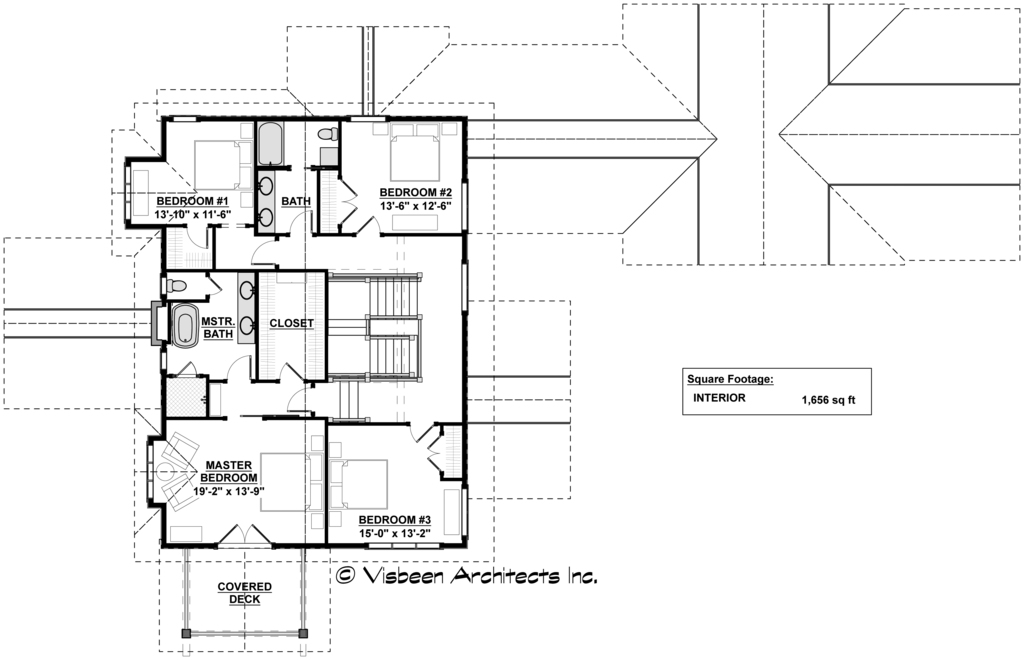bed: (253, 441, 331, 519), (320, 439, 394, 519), (380, 117, 456, 187), (189, 133, 255, 197)
door: (213, 518, 276, 547), (247, 232, 285, 272), (332, 176, 361, 227), (280, 379, 319, 414), (220, 356, 262, 385), (402, 417, 438, 450), (427, 425, 449, 478), (182, 218, 214, 252), (353, 207, 385, 240), (285, 206, 317, 238), (268, 357, 307, 382), (171, 360, 209, 382)
large_sink: (152, 271, 200, 295), (312, 118, 336, 149)
small_sink: (255, 165, 284, 235), (237, 267, 258, 352)
small_sofa: (155, 427, 206, 472), (160, 474, 200, 514)
stairs: (316, 265, 432, 427)
tub: (251, 121, 297, 168), (171, 299, 205, 352)
window: (455, 176, 479, 235), (454, 260, 470, 310), (369, 541, 450, 550), (458, 479, 470, 536)
